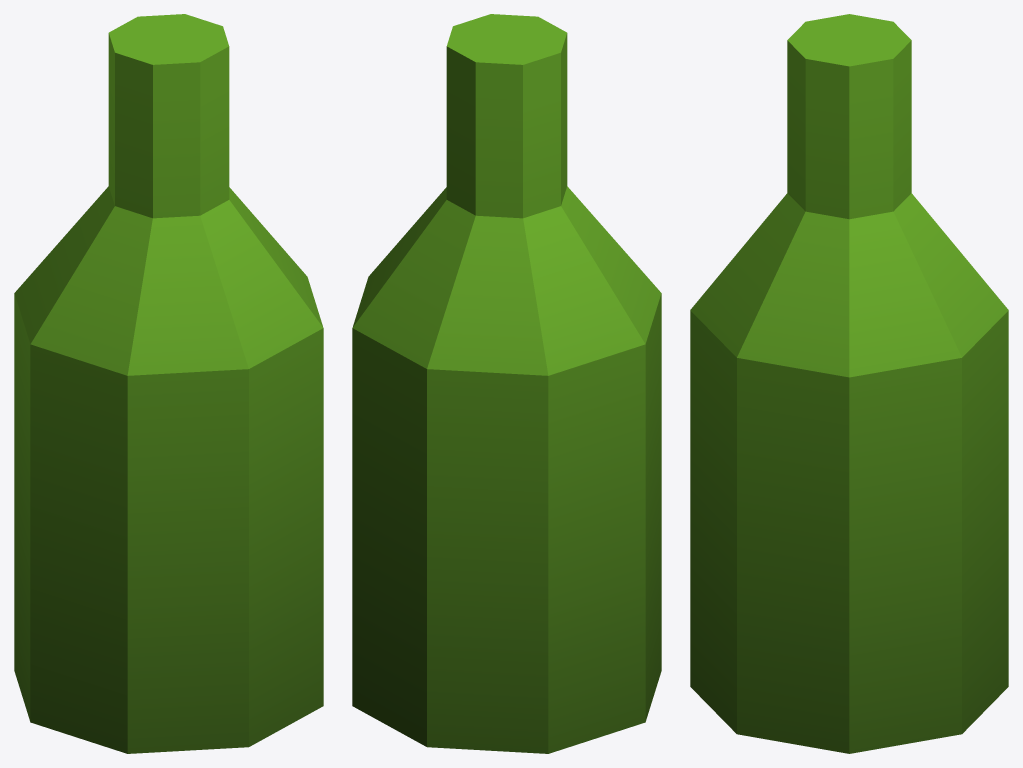
Rendered from bottle.fbx.
3 renders of one model, left to right at view 1: azimuth 30°, elevation 25°; view 2: azimuth 150°, elevation 25°; view 3: azimuth 270°, elevation 25°, orthographic.
Visible parts, largest first — view 1: bottle; view 2: bottle; view 3: bottle.
Part boxes in pixels (left/top/right/bottom): bottle: left=14, top=14, right=323, bottom=753; bottle: left=352, top=14, right=661, bottom=753; bottle: left=690, top=14, right=1008, bottom=753.
Size of the model in its own units: 56.51 by 127 by 56.51.
Materials: 1 (1 with a texture image).
